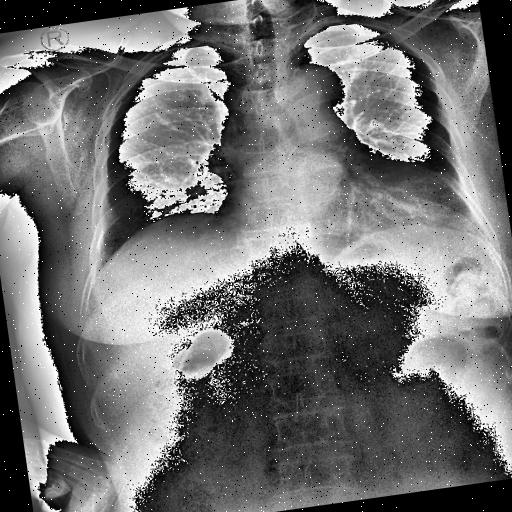0- Aortic enlargement: (218, 48, 364, 156), (277, 60, 356, 138)
13- Pulmonary fibrosis: (132, 74, 230, 138)
3- Cardiomegaly: (211, 136, 475, 273), (214, 160, 469, 268)
7- Lung Opacity: (148, 106, 189, 144)
